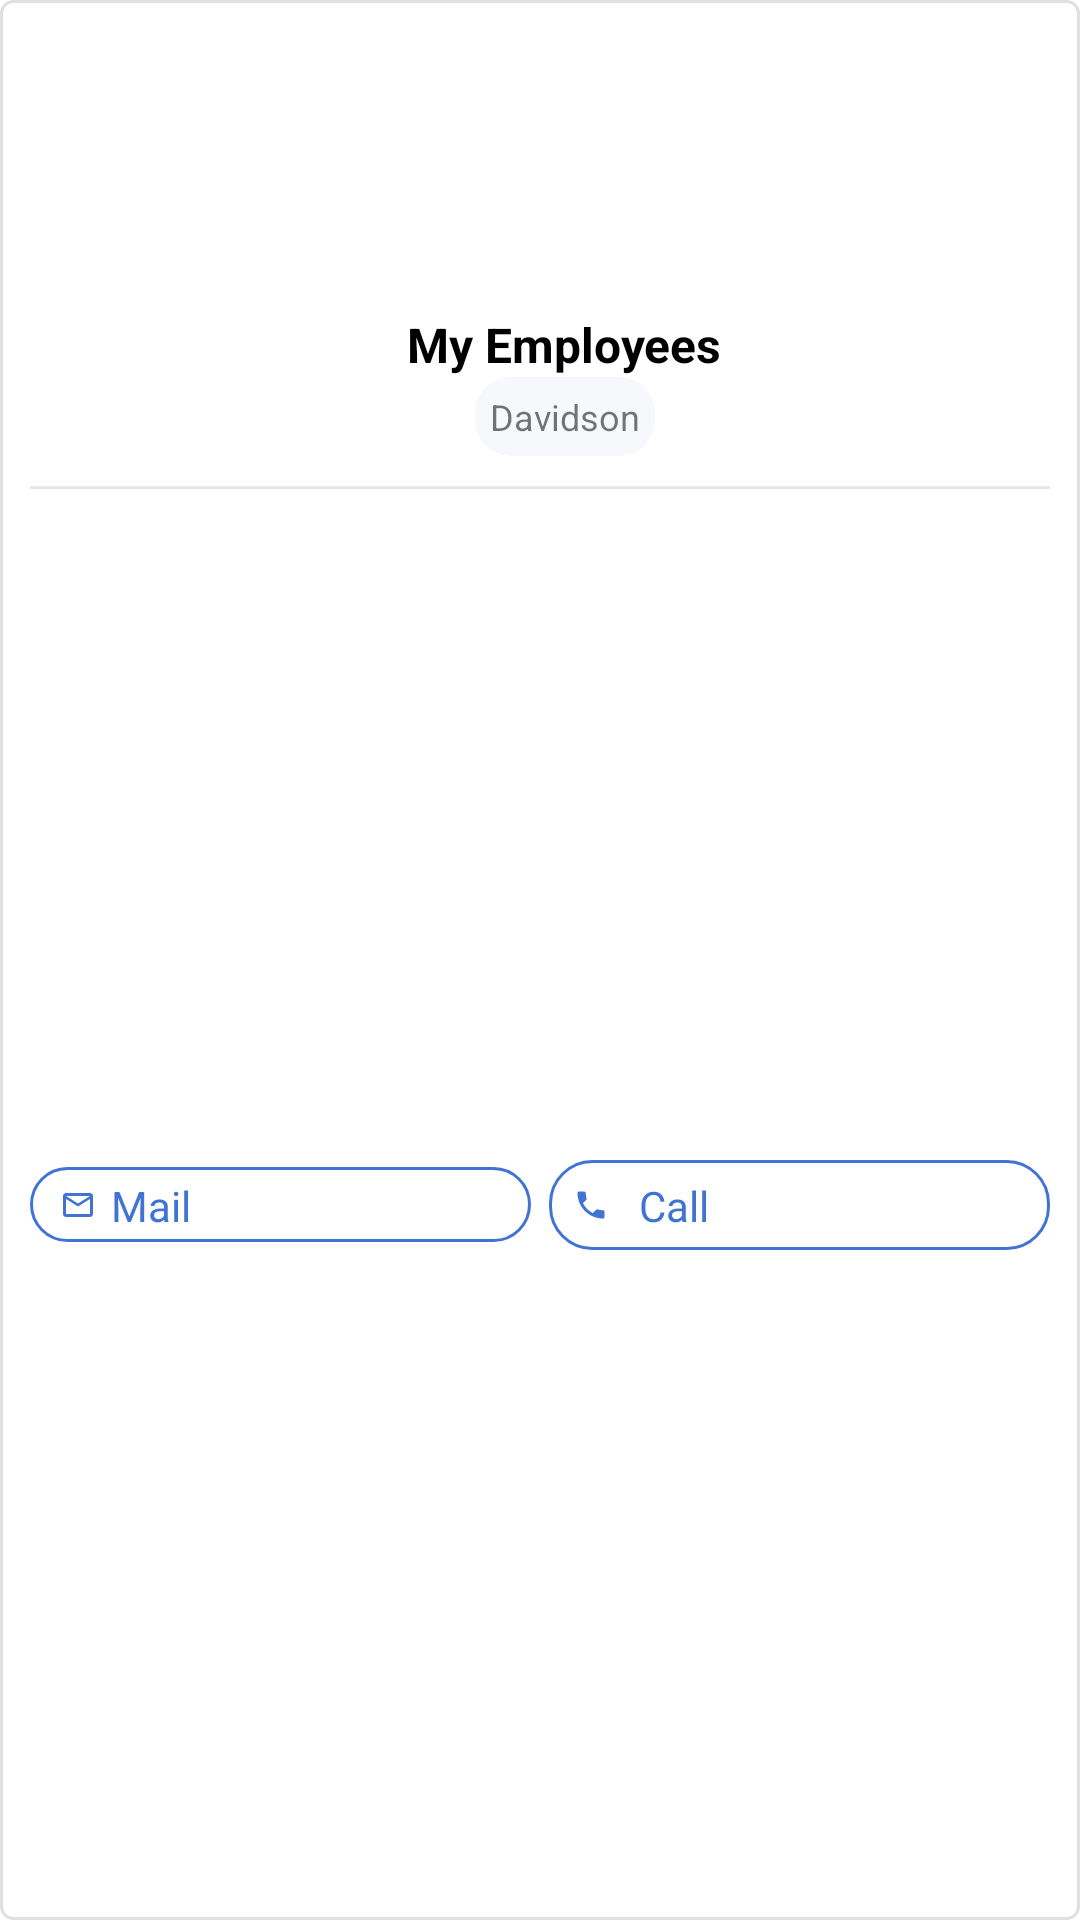

Where to tap for icons on this 1080*1920 app screen, as [x,y]:
local phone: [591,1205]
